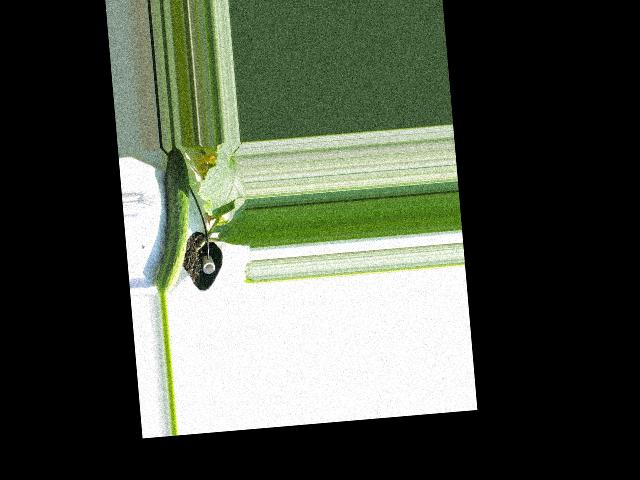cucumber: (144, 146, 198, 297)
